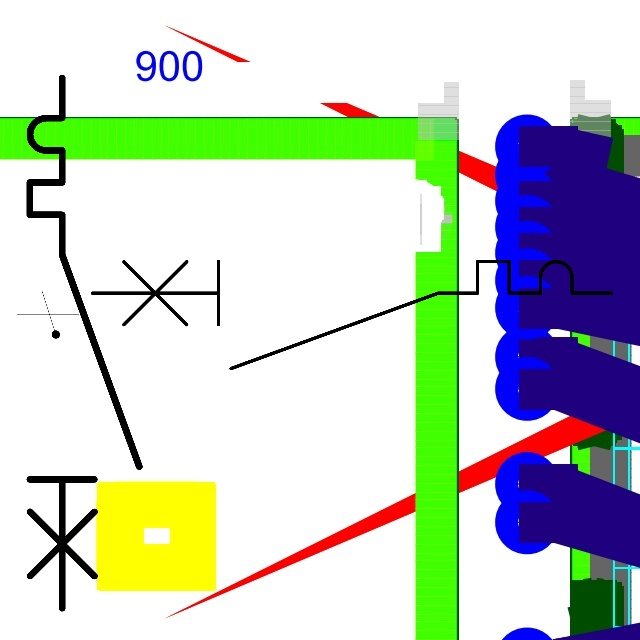interruptor_termomagnetico: (16, 64, 152, 622), (78, 248, 624, 382)
